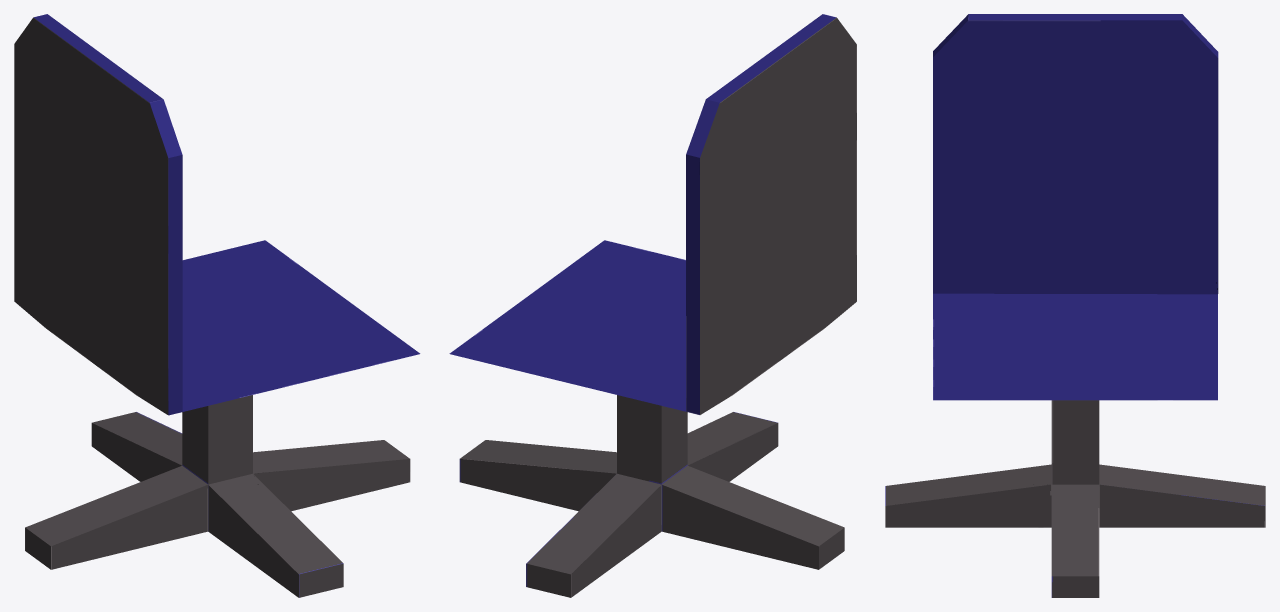
The model's file is chair.fbx.
The picture shows the model from 3 angles, left to right: view 1: azimuth 30°, elevation 25°; view 2: azimuth 150°, elevation 25°; view 3: azimuth 270°, elevation 25°; orthographic projection. The views are drawn at different scales.
Visible parts, largest first — view 1: Cube.001, Cube.002, Cube.006, Cube.005, Cube.004, Cube.003, Cube.007; view 2: Cube.001, Cube.002, Cube.006, Cube.007, Cube.004, Cube.003, Cube.005; view 3: Cube.001, Cube.002, Cube.007, Cube.005, Cube.004, Cube.003.
Boxes of the visible parts, x1,y1,x2,y2 form: Cube.001: (14,14,182,415); Cube.002: (16,240,420,414); Cube.006: (25,466,208,569); Cube.005: (208,473,343,597); Cube.004: (253,440,410,511); Cube.003: (182,395,252,484); Cube.007: (91,412,182,481); Cube.001: (686,14,856,414); Cube.002: (449,240,853,413); Cube.006: (661,465,844,569); Cube.007: (526,473,661,597); Cube.004: (459,440,616,511); Cube.003: (617,395,687,484); Cube.005: (687,412,778,481); Cube.001: (933,14,1218,294); Cube.002: (933,293,1217,400); Cube.007: (1099,464,1265,527); Cube.005: (885,464,1051,527); Cube.004: (1051,484,1099,597); Cube.003: (1051,400,1099,484).
Bounding box in the file's own units: 612 × 794 × 612.
1 material, 1 textured.
